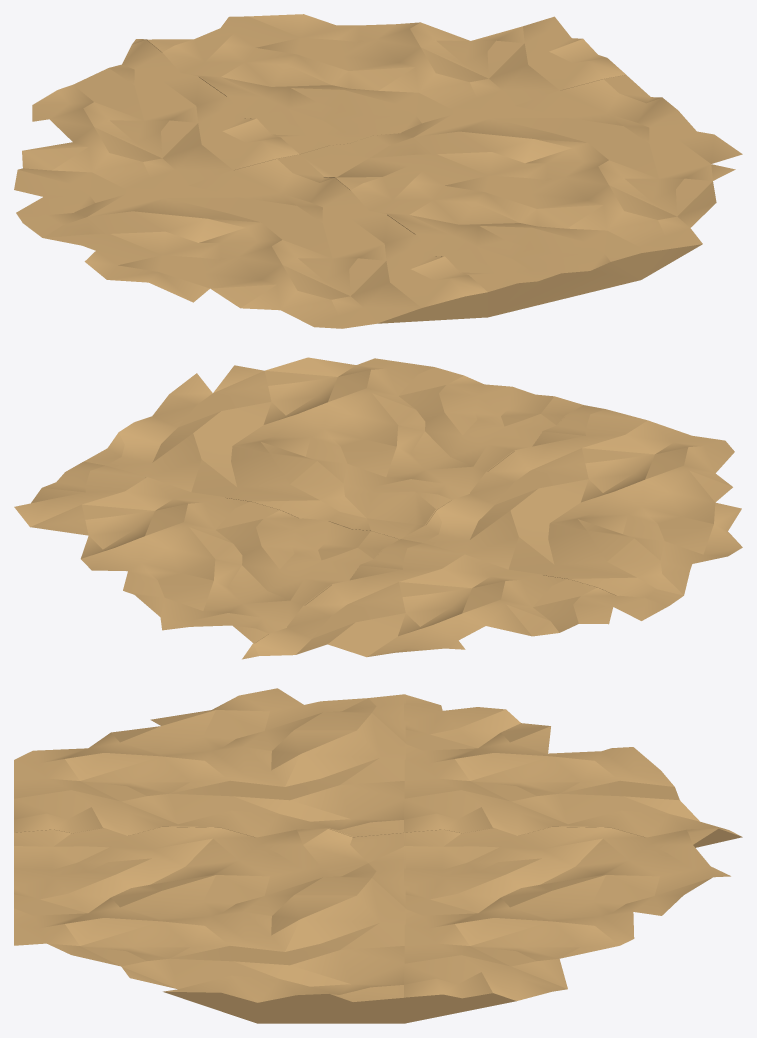
File: soil.fbx
3 renders of one model, top to bottom at view 1: azimuth 30°, elevation 25°; view 2: azimuth 150°, elevation 25°; view 3: azimuth 270°, elevation 25°, orthographic. The views are drawn at different scales.
Visible parts, largest first — view 1: pasted__polySurface5577; view 2: pasted__polySurface5577; view 3: pasted__polySurface5577.
Boxes of the visible parts, x1,y1,x2,y2 form: pasted__polySurface5577: (14, 14, 742, 328); pasted__polySurface5577: (14, 357, 742, 659); pasted__polySurface5577: (14, 688, 742, 1023).
Size of the model in its own units: 645 by 35.05 by 652.
